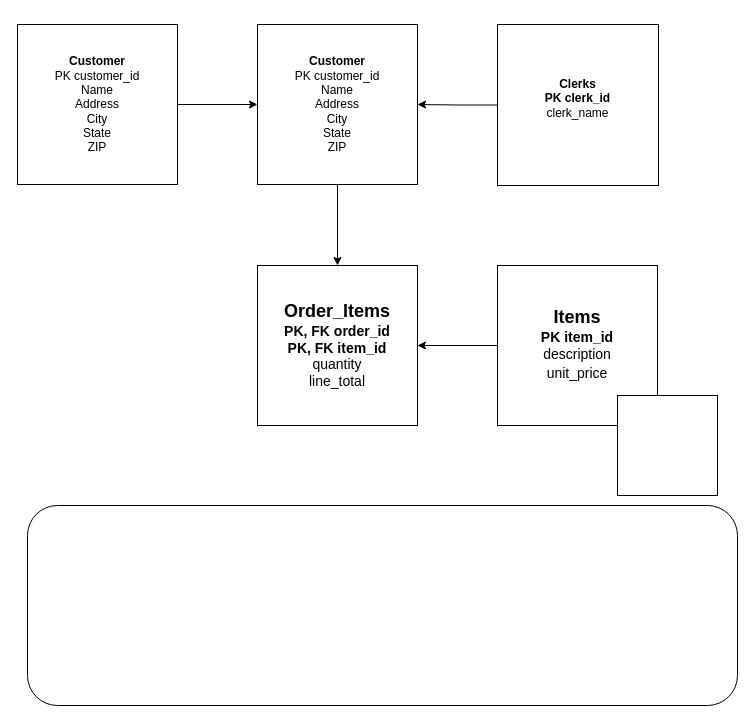
The diagram is 755 pixels wide and 723 high, and some of its shapes have lost their labels. The centre of each missing label's shape, as x and y in pixels:
"Legend: PK Primary Key FK Foreign Key" goes at (x=667, y=445).
"Sample Data From Sales Order" goes at (x=382, y=605).
